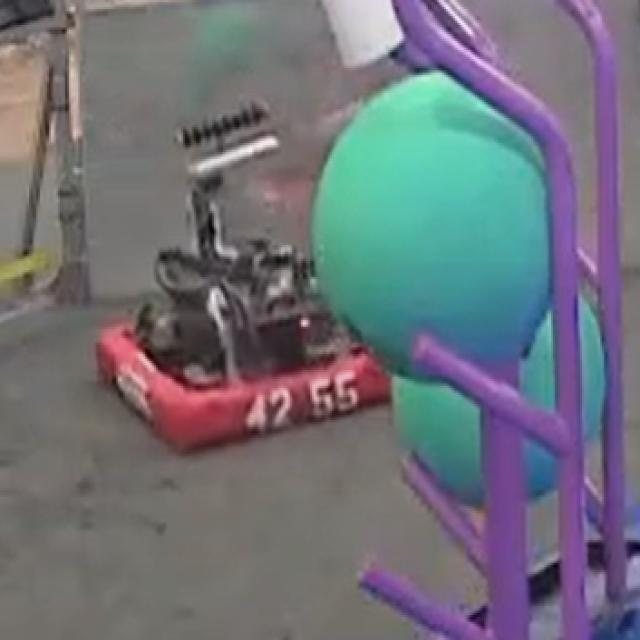Robot-YfA7: (97, 102, 370, 465)
